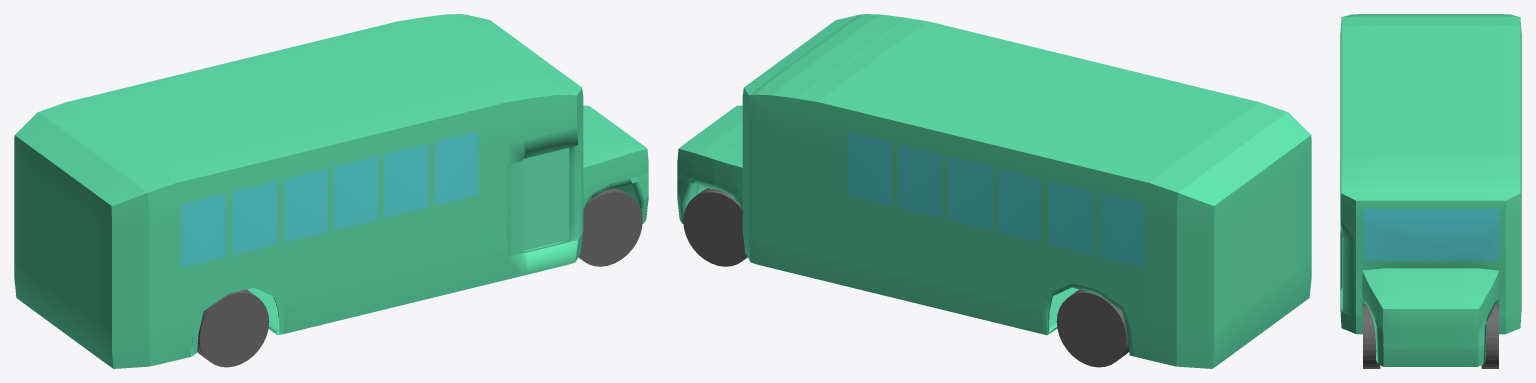
Rendered from Bus 1.fbx.
3 renders of one model, left to right at view 1: azimuth 30°, elevation 25°; view 2: azimuth 150°, elevation 25°; view 3: azimuth 270°, elevation 25°, orthographic. The views are drawn at different scales.
Visible parts, largest first — view 1: Cube, Cube.001, Cylinder, Cylinder.001; view 2: Cube, Cylinder.002, Cylinder.003; view 3: Cube, Cylinder.003, Cylinder.001.
Part boxes in pixels (left/top/right/bottom): Cube: left=14, top=14, right=648, bottom=368; Cube.001: left=523, top=148, right=569, bottom=250; Cylinder: left=197, top=289, right=269, bottom=367; Cylinder.001: left=578, top=189, right=642, bottom=266; Cube: left=677, top=14, right=1311, bottom=368; Cylinder.002: left=1056, top=289, right=1129, bottom=367; Cylinder.003: left=683, top=188, right=747, bottom=266; Cube: left=1340, top=14, right=1521, bottom=366; Cylinder.003: left=1481, top=304, right=1498, bottom=368; Cylinder.001: left=1363, top=304, right=1380, bottom=368.
Size of the model in its own units: 990 by 343 by 343.
